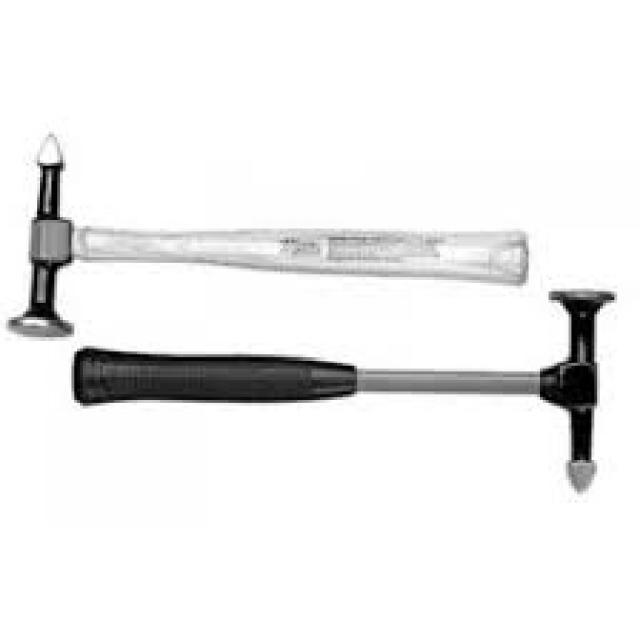hammer: (65, 279, 631, 503), (4, 118, 536, 348)
